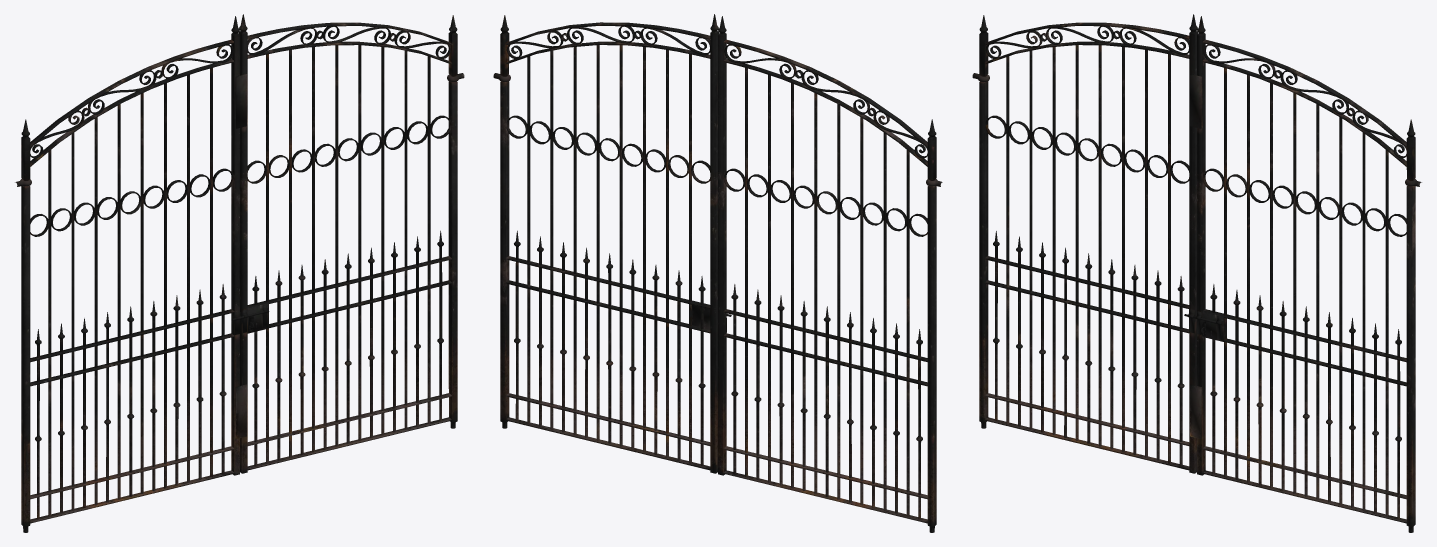
File: gate-iron.glb
The picture shows the model from 3 angles, left to right: view 1: azimuth 30°, elevation 25°; view 2: azimuth 150°, elevation 25°; view 3: azimuth 330°, elevation 25°; orthographic projection.
Parts seen in each view (by area): view 1: large_iron_gate_right_door; view 2: large_iron_gate_right_door; view 3: large_iron_gate_right_door.
Part boxes in pixels (left/top/right/bottom): large_iron_gate_right_door: left=15, top=14, right=464, bottom=532; large_iron_gate_right_door: left=493, top=14, right=942, bottom=532; large_iron_gate_right_door: left=972, top=14, right=1421, bottom=532.
Bounding box in the file's own units: 2.95 × 2.93 × 0.0999.
1 material, 1 textured.
